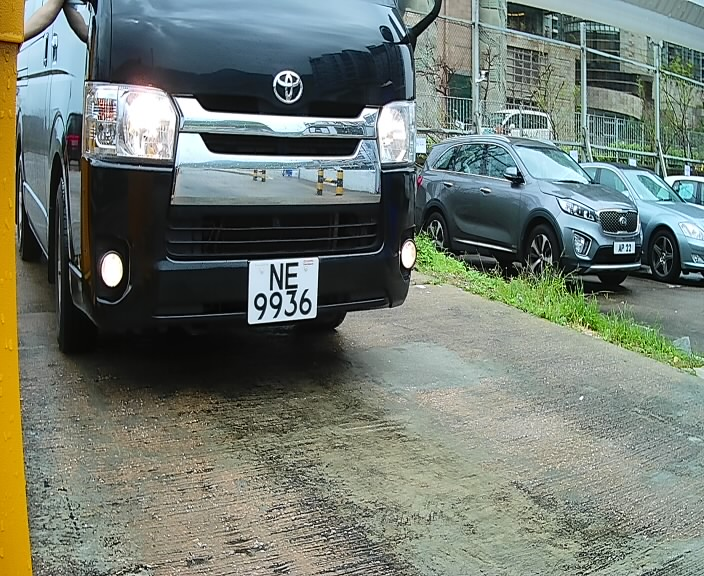Car: (34, 2, 435, 386)
License Plate: (244, 252, 329, 333)
